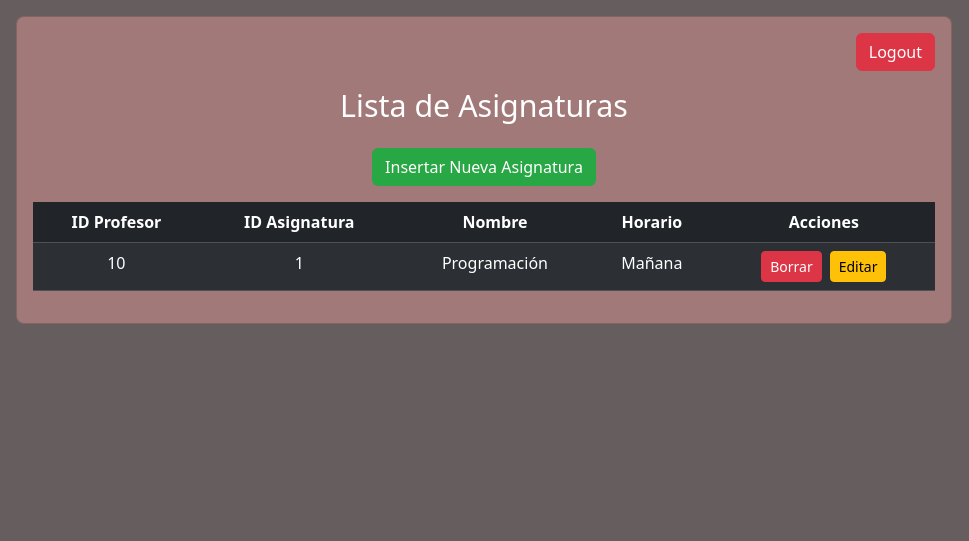
Test: Asignaturas component › permite abrir el formulario de edición
Expected: the text "Programación" is shown, x1=399 y1=242 x2=591 y2=290
Click the button "Editar" at (858, 266), box x1=830 y1=250 x2=886 y2=282
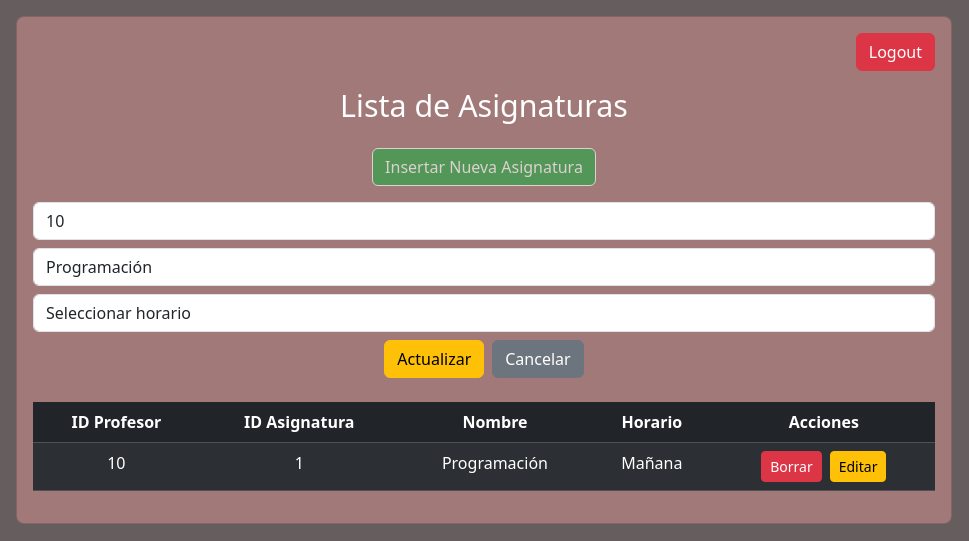
Expected: the number field showing "10" is shown, x1=33 y1=202 x2=935 y2=240
Expected: the field showing "Programación" is shown, x1=33 y1=248 x2=935 y2=286
Expected: the button "Actualizar" is shown, x1=384 y1=340 x2=484 y2=378
